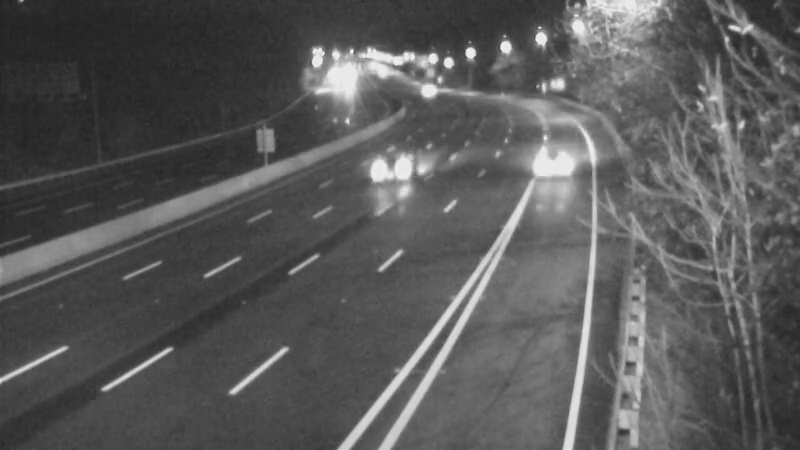vehicle: (505, 117, 585, 197), (340, 124, 420, 204), (396, 60, 446, 110)
